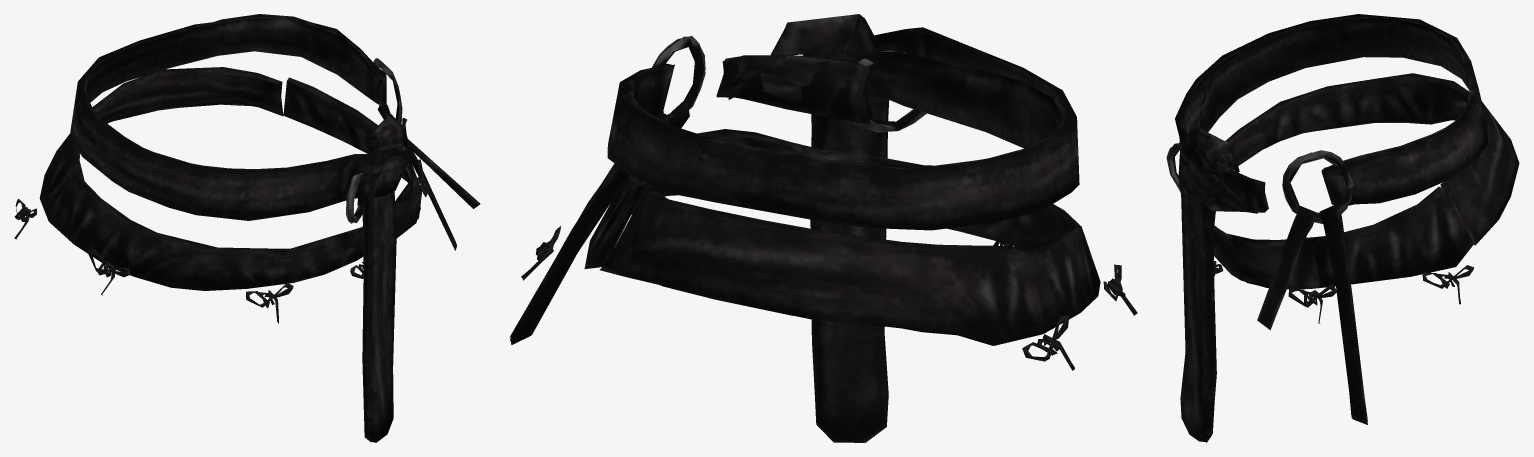
Rendered from damaged_black_belt_drop_lite.glb.
3 views of the same model, side by side, from view 1: azimuth 30°, elevation 25°; view 2: azimuth 150°, elevation 25°; view 3: azimuth 270°, elevation 25° (orthographic). The views are drawn at different scales.
Parts seen in each view (by area): view 1: damaged_black_belt; view 2: damaged_black_belt; view 3: damaged_black_belt.
Part boxes in pixels (left/top/right/bottom): damaged_black_belt: left=14, top=14, right=480, bottom=442; damaged_black_belt: left=509, top=14, right=1137, bottom=442; damaged_black_belt: left=1166, top=14, right=1519, bottom=442.
Size of the model in its own units: 0.5251 by 0.3858 by 0.3759.
1 material, 1 textured.
